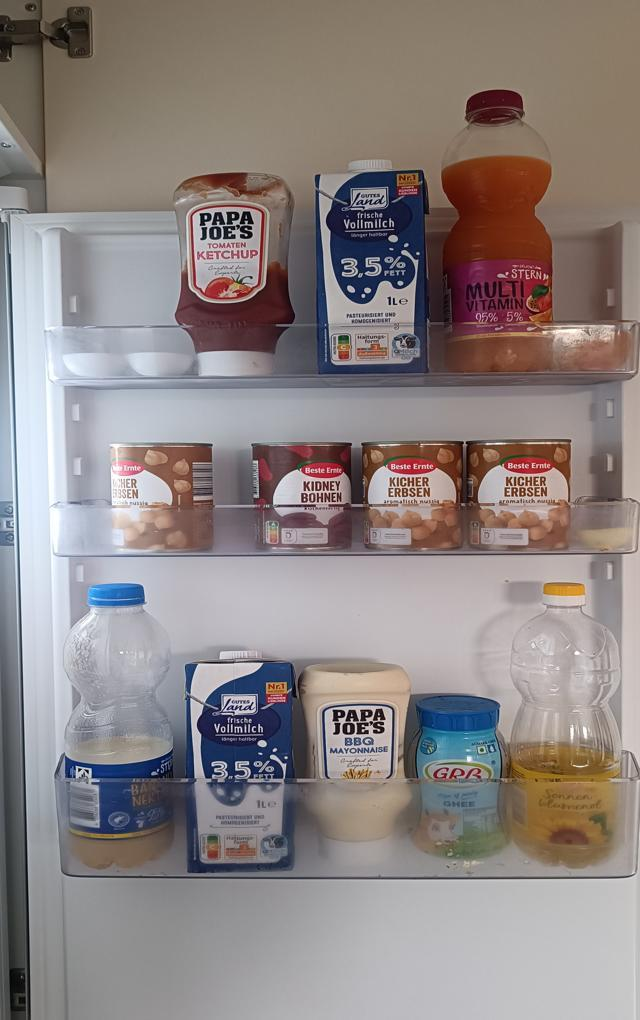bananajuice: (62, 582, 177, 869)
chickpeas: (465, 439, 573, 556), (109, 443, 218, 558), (362, 443, 465, 554)
ghee: (408, 694, 514, 861)
kidneybeans: (253, 442, 354, 554)
mayoniasie: (300, 663, 413, 874)
milk: (314, 156, 432, 377), (186, 648, 298, 874)
oil: (514, 580, 622, 869)
orangejuice: (442, 87, 558, 377)
tomatoketchup: (173, 171, 298, 377)
